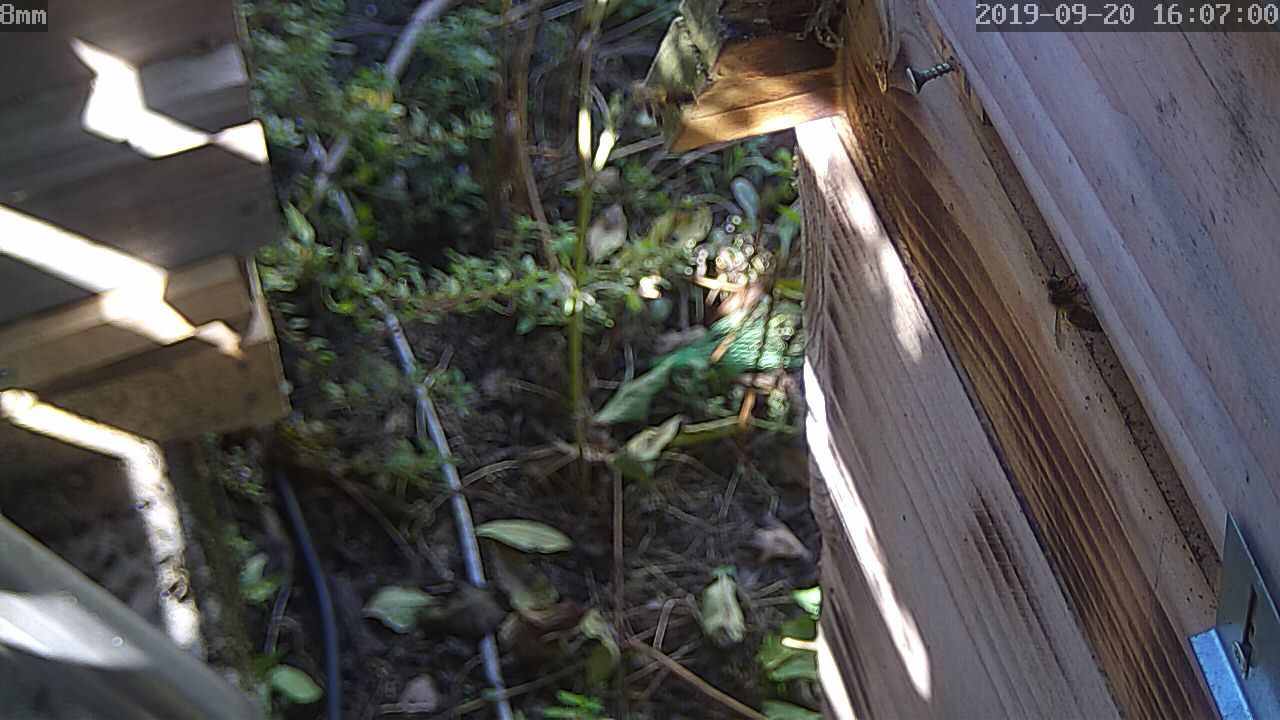bee: (1044, 266, 1109, 342)
